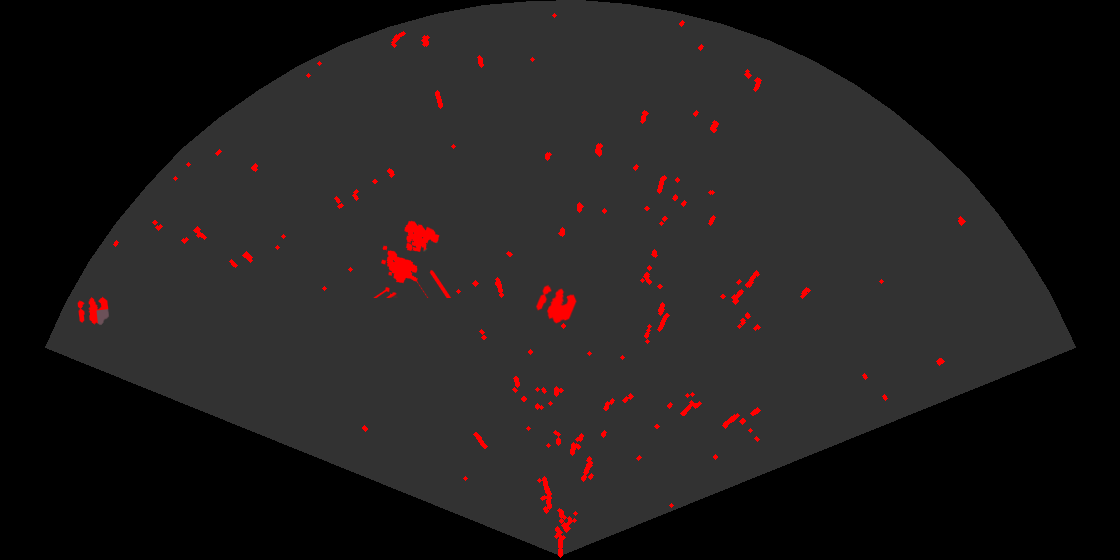ball: (534, 283, 578, 325), (76, 295, 110, 326)
cage: (372, 219, 453, 298)
